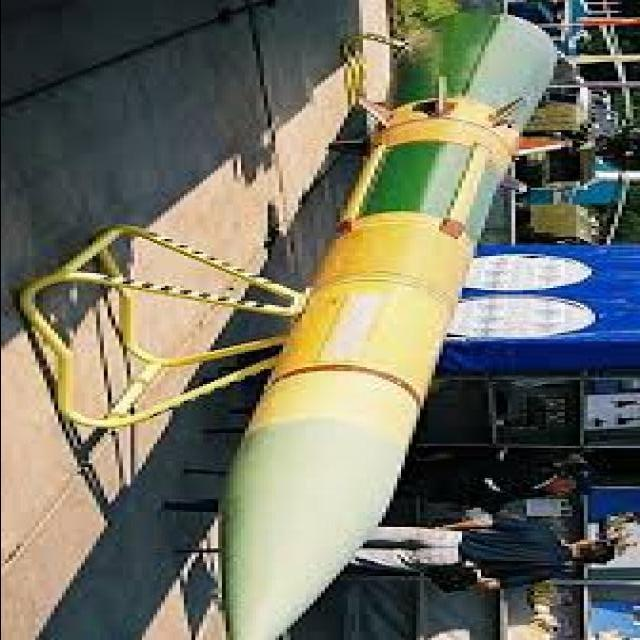Missile: (203, 0, 587, 640)
